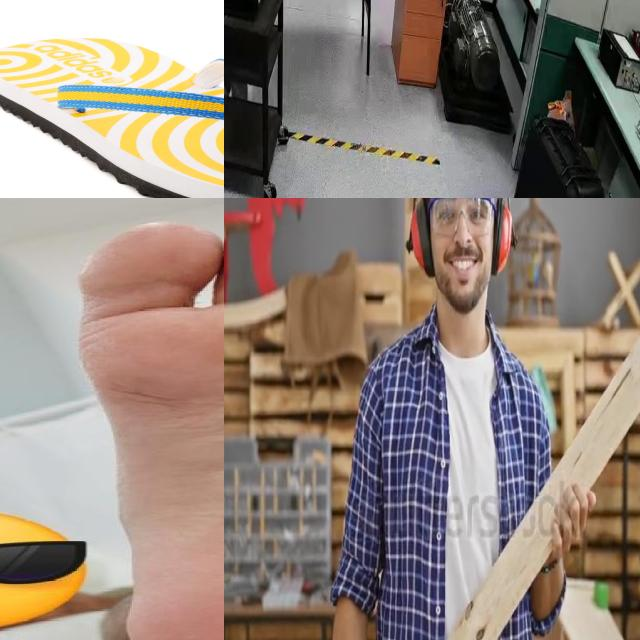Barefoots: (69, 214, 224, 640)
Ear-protection: (402, 198, 437, 278), (494, 198, 516, 277)
Sandals: (0, 35, 224, 198)
glasses: (426, 198, 497, 239)
person: (348, 198, 568, 640)
